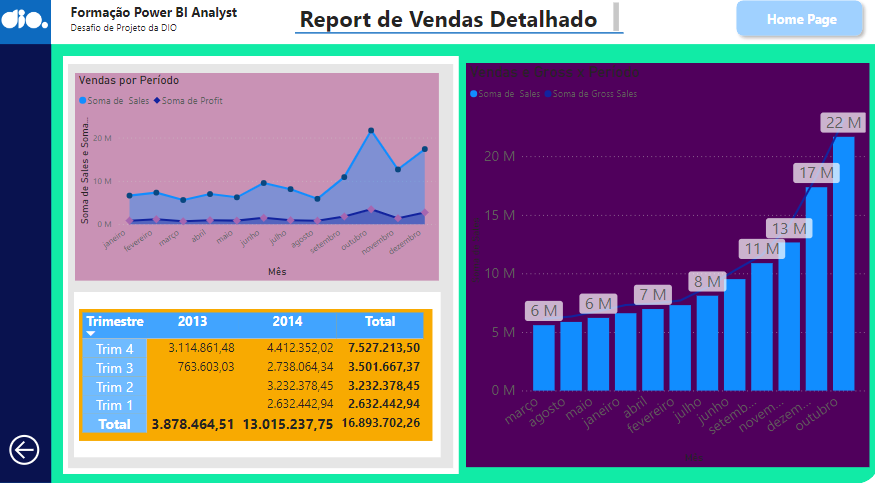

The page's visual inventory and layout, read from the dashboard file:
{"tool":"powerbi","page":{"name":"Report","canvas":[1280,720],"ordinal":2},"visuals":[{"type":"group","id":"g1","title":"Layout","box":[10,12.8,1270,707],"z":0},{"type":"shape","box":[10,12.8,1270,707],"z":0,"group":"g1"},{"type":"shape","box":[437.3,51.5,473,37.1],"z":0,"group":"g3"},{"type":"shape","box":[103.6,103.6,569.9,601.9],"z":0,"group":"g2"},{"type":"shape","box":[10.1,13.4,77.2,706.3],"z":1000,"group":"g1"},{"type":"textbox","box":[438.7,21.3,470.2,52.2],"z":1000,"group":"g3"},{"type":"lineClusteredColumnComboChart","title":"Vendas e Gross x Período","fields":{"Category":["financials.Date.Variation.Hierarquia de datas.Mês"],"Y":["Sum(financials. Sales)"],"Y2":["Sum(financials.Gross Sales)"]},"box":[684.2,114.3,580.6,582.1],"z":1000},{"type":"shape","box":[110.3,114.6,554.7,582.1],"z":1000,"group":"g2"},{"type":"shape","box":[10.1,13.4,77.2,73.8],"z":2000,"group":"g1"},{"type":"group","id":"g2","title":"Detalhes venda x profit","box":[103.6,103.6,569.9,601.9],"z":2000},{"type":"shape","box":[120.1,443.5,528.4,238.2],"z":2000,"group":"g2"},{"type":"image","title":"logo_dio","box":[10.1,18.4,77.2,62.1],"z":3000,"group":"g1"},{"type":"textbox","title":"Título do report","box":[109.7,22.9,377.9,64],"z":3000},{"type":"areaChart","title":"Vendas por Período","fields":{"Category":["financials.Date.Variation.Hierarquia de datas.Trimestre","financials.Date.Variation.Hierarquia de datas.Mês"],"Y":["Sum(financials. Sales)","Sum(financials.Profit)"]},"box":[120.9,128.6,524.2,298.7],"z":3000,"group":"g2"},{"type":"shape","box":[87,12.8,1193.1,74.1],"z":4000,"group":"g1"},{"type":"group","id":"g3","title":"Sales report","box":[437.3,21.3,472.4,67],"z":4000},{"type":"pivotTable","fields":{"Columns":["financials.Date.Variation.Hierarquia de datas.Ano"],"Rows":["financials.Date.Variation.Hierarquia de datas.Trimestre"],"Values":["Sum(financials.Profit)"]},"box":[126,468.4,509.5,189.9],"z":4000,"group":"g2"},{"type":"actionButton","box":[20.6,622.4,55.6,96.9],"z":6000},{"type":"actionButton","title":"Home Page","box":[1064.7,14.6,199.6,69.2],"z":9000,"group":"g4"},{"type":"textbox","box":[1101,33.7,134.4,34.6],"z":9500,"group":"g4"},{"type":"group","id":"g4","title":"Botão home","box":[1064.7,14.6,199.6,69.2],"z":9501}]}

Visuals, with their boxes in screenshot pixels (x1, y1, x2, y2), scaled from the page's 1280x720 canvas onto the 875x483 screenshot:
"Layout" group: Rect(7, 9, 874, 482)
shape: Rect(7, 9, 874, 482)
shape: Rect(299, 35, 622, 59)
shape: Rect(71, 69, 460, 473)
shape: Rect(7, 9, 60, 482)
textbox: Rect(300, 14, 621, 49)
"Vendas e Gross x Período" lineClusteredColumnComboChart: Rect(468, 77, 865, 467)
shape: Rect(75, 77, 455, 467)
shape: Rect(7, 9, 60, 58)
"Detalhes venda x profit" group: Rect(71, 69, 460, 473)
shape: Rect(82, 298, 443, 457)
"logo_dio" image: Rect(7, 12, 60, 54)
"Título do report" textbox: Rect(75, 15, 333, 58)
"Vendas por Período" areaChart: Rect(83, 86, 441, 287)
shape: Rect(59, 9, 874, 58)
"Sales report" group: Rect(299, 14, 622, 59)
pivotTable - financials.Date.Variation.Hierarquia de datas.Ano x financials.Date.Variation.Hierarquia de datas.Trimestre: Rect(86, 314, 434, 442)
actionButton: Rect(14, 418, 52, 482)
"Home Page" actionButton: Rect(728, 10, 864, 56)
textbox: Rect(753, 23, 845, 46)
"Botão home" group: Rect(728, 10, 864, 56)
